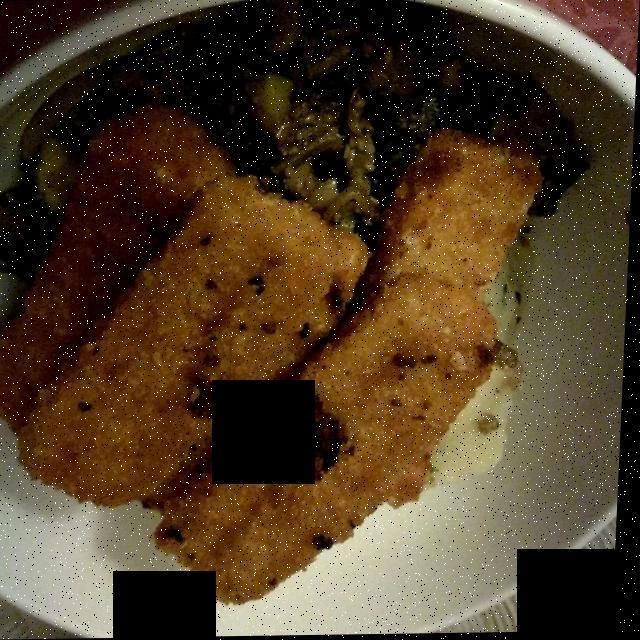mashed-potatoes: (436, 244, 533, 493)
